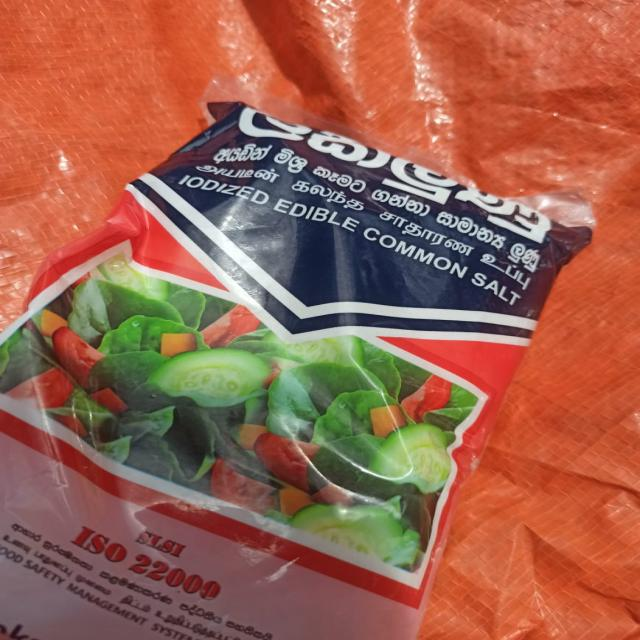Lak Lunu: (0, 78, 619, 640)
